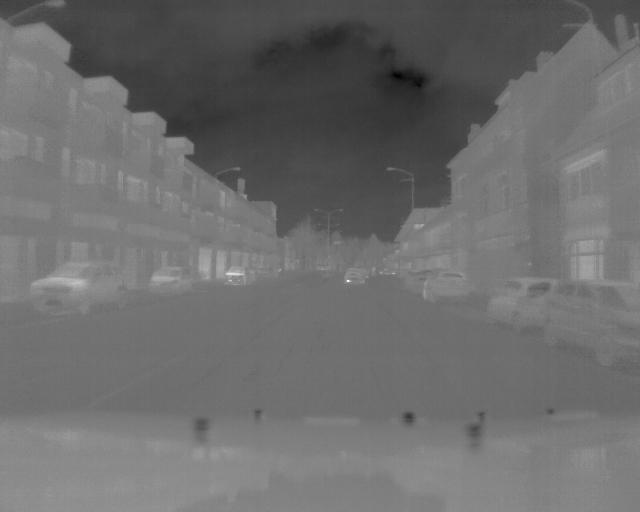car: (544, 275, 640, 368), (30, 258, 134, 316), (486, 272, 552, 333), (406, 267, 471, 307), (147, 266, 195, 298), (222, 263, 259, 288), (342, 265, 368, 286)
